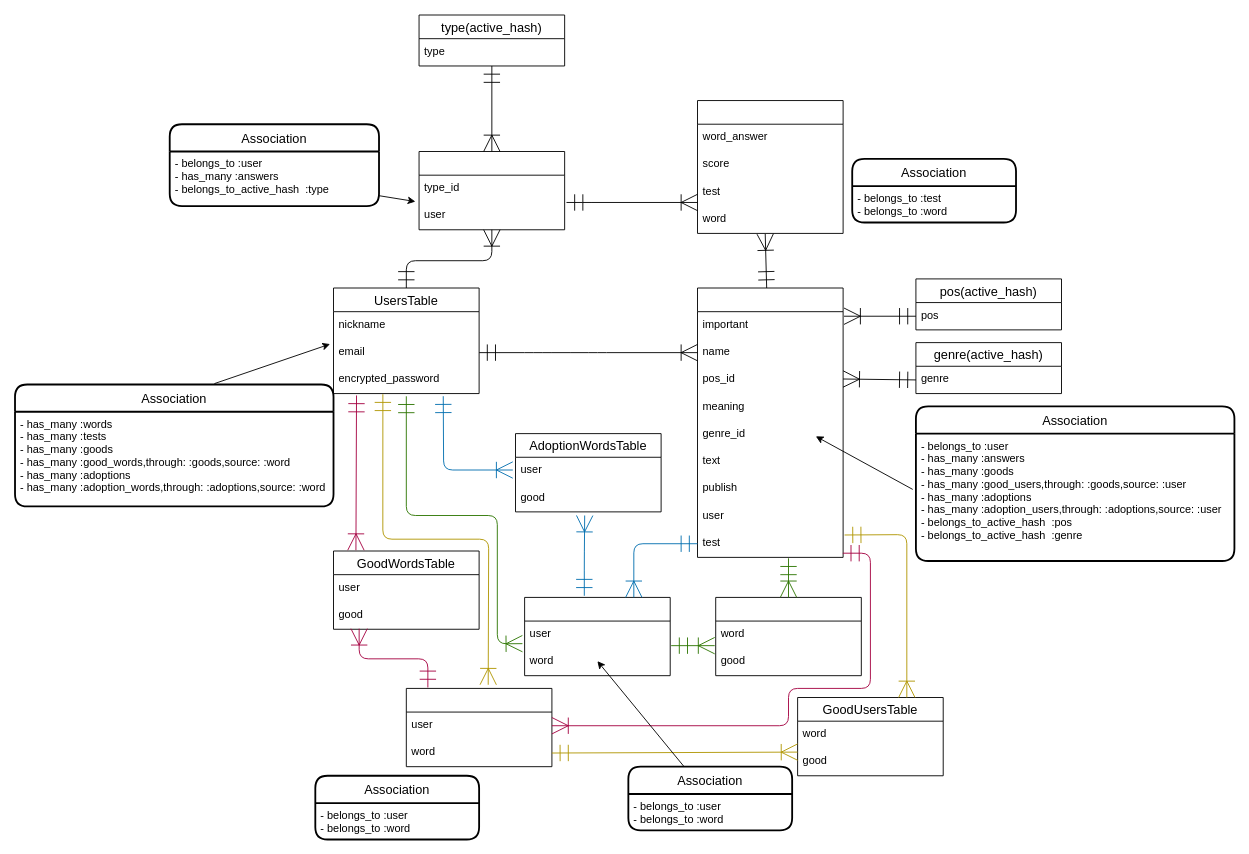
The diagram is 1249 pixels wide and 854 high, and some of its shapes have lost their labels. Here are the shapes that lost their labels. From the top down, the box of each, then its label:
(697, 100, 843, 233): AnswersTable
(418, 151, 565, 230): TestsTable
(697, 287, 843, 557): WordsTable
(524, 597, 670, 676): AdoptionsTable
(715, 597, 861, 676): AdoptionUsersTable
(405, 688, 552, 767): GoodsTable
